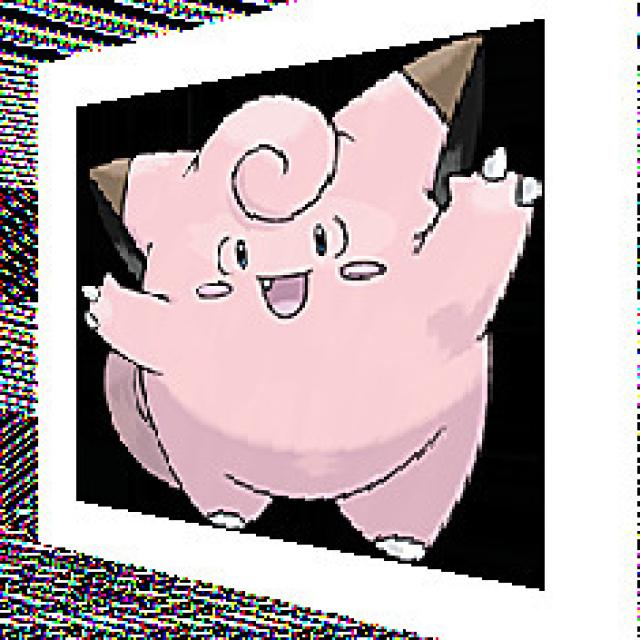Clefairy: (81, 46, 530, 538)
